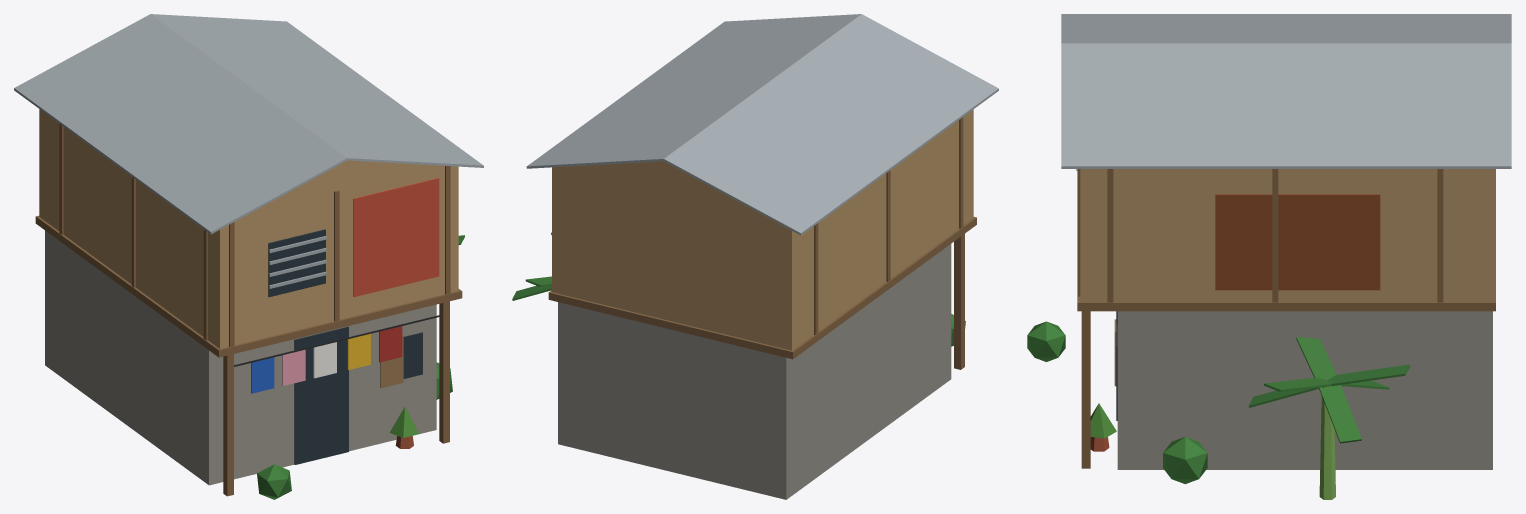
File: BAY_I_Shanty2F_N.glb
3 renders of one model, left to right at view 1: azimuth 30°, elevation 25°; view 2: azimuth 150°, elevation 25°; view 3: azimuth 270°, elevation 25°, orthographic. The views are drawn at different scales.
Parts seen in each view (by area): view 1: BAY_I_Shanty2F_N; view 2: BAY_I_Shanty2F_N; view 3: BAY_I_Shanty2F_N.
Boxes of the visible parts, x1,y1,x2,y2 form: BAY_I_Shanty2F_N: (14, 14, 483, 499); BAY_I_Shanty2F_N: (512, 14, 998, 499); BAY_I_Shanty2F_N: (1027, 14, 1511, 499).
Size of the model in its own units: 6.3 by 5.34 by 6.46.
Materials: 1 (1 with a texture image).
